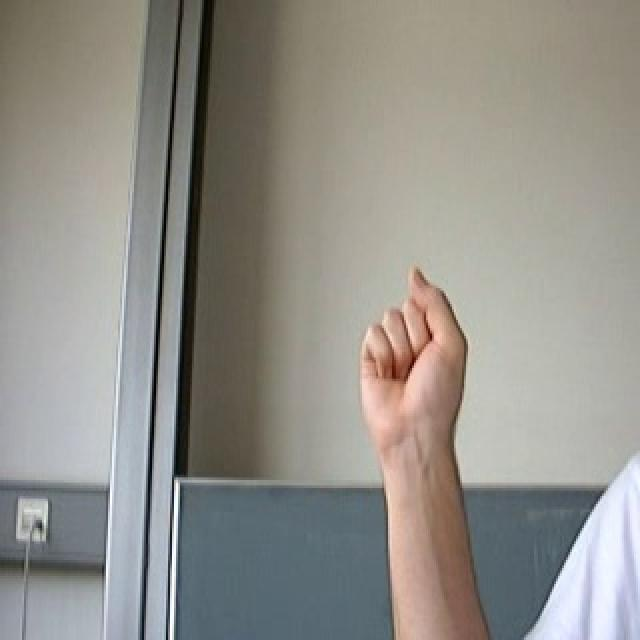S: (320, 251, 491, 479)
